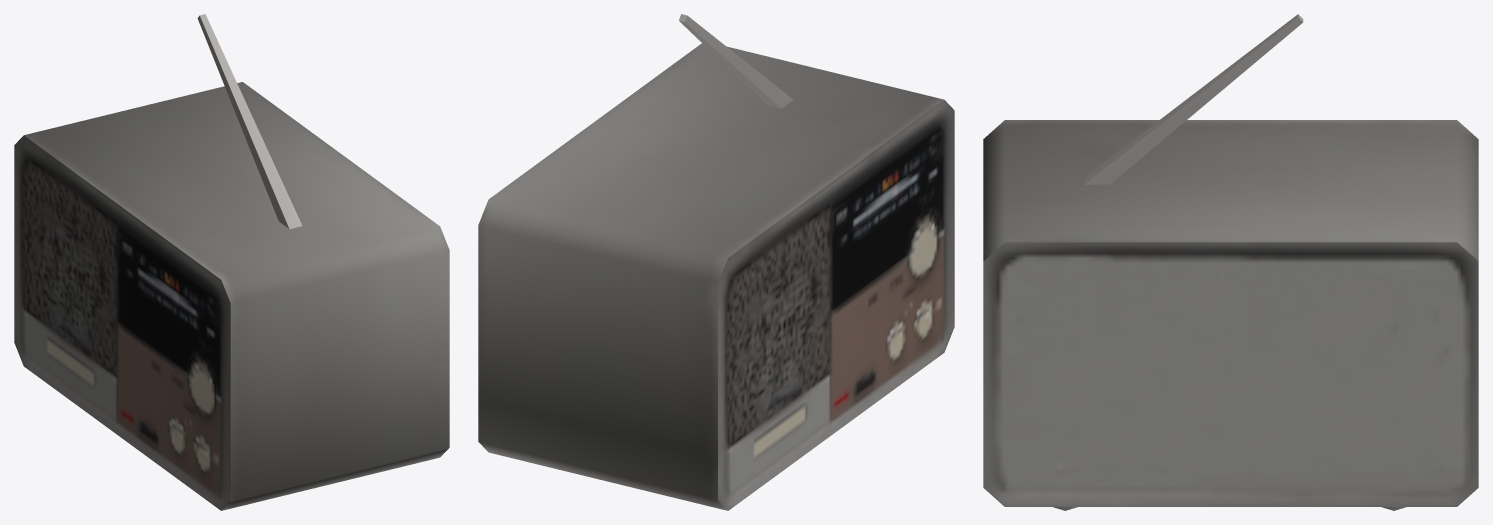
File: radio.glb
The picture shows the model from 3 angles, left to right: view 1: azimuth 30°, elevation 25°; view 2: azimuth 150°, elevation 25°; view 3: azimuth 270°, elevation 25°; orthographic projection. The views are drawn at different scales.
Visible parts, largest first — view 1: Radio_01; view 2: Radio_01; view 3: Radio_01.
Boxes of the visible parts, x1=… form: Radio_01: x1=14, y1=14, x2=449, y2=510; Radio_01: x1=478, y1=14, x2=954, y2=510; Radio_01: x1=983, y1=14, x2=1478, y2=510.
Bounding box in the file's own units: 0.3607 × 0.6122 × 0.6173.
1 material, 1 textured.
